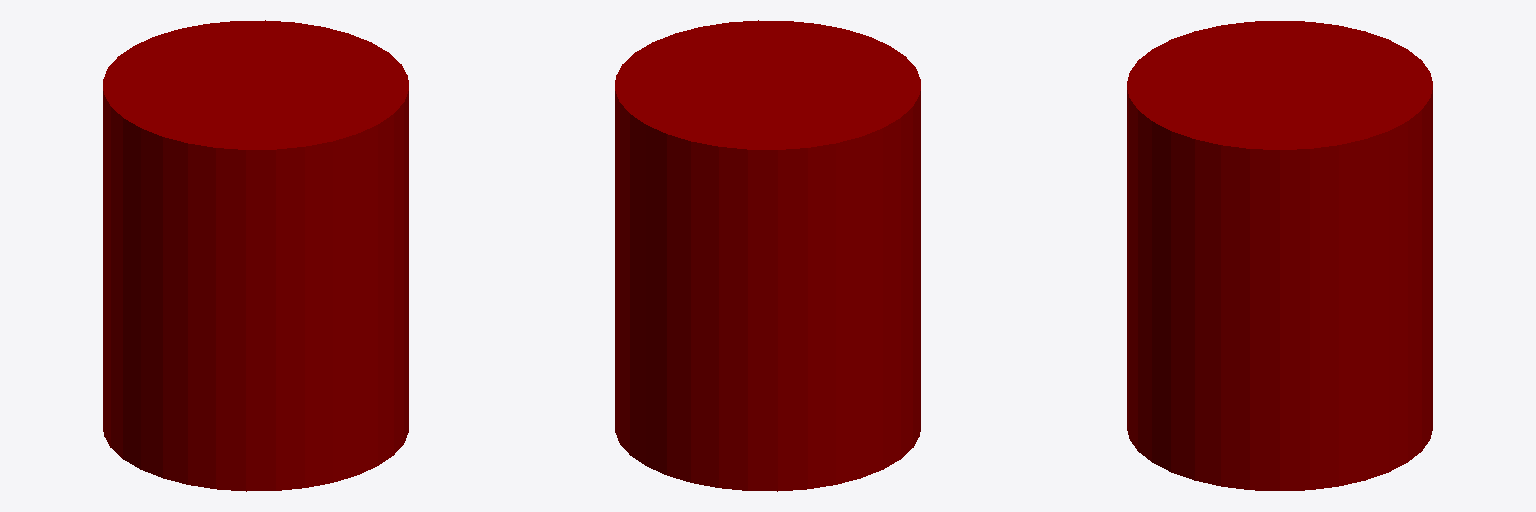
robot.urdf — truth_d6:
<?xml version="1.0" ?>
<robot name="truth_d6"
  xmlns:drake="https://drake.mit.edu/">
    <link name="cube">
        <inertial>
            <origin xyz="0 0 0" rpy="0 0 0"/>
            <mass value="0.5" />
            <inertia
                ixx="0.5"
                ixy="0"
                ixz="0"
                iyy="0.5"
                iyz="0"
                izz="0.5"/>
        </inertial>
        <visual>
            <origin xyz="0 0 0" rpy="0 0 0" />
            <geometry>
                <mesh filename="meshes/cylinder_mscale.obj"/>
            </geometry>
            <material name="pennred">
                <color rgba="0.6 0 0 1.0" />
            </material>
        </visual>
        <collision>
            <geometry>
                <mesh filename="meshes/cylinder_mscale.obj"/>
            </geometry>
            <origin xyz="0 0 0" rpy="0 0 0" />
            <drake:proximity_properties>
                <drake:mu_static value="0.5" />
                <drake:rigid_hydroelastic />
                <drake:mesh_resolution_hint value="0.001" />
                <drake:point_contact_stiffness value="10800.0" />
                <drake:hunt_crossley_dissipation value="0.4" />
            </drake:proximity_properties>
        </collision>
    </link>
</robot>

--- What the picture shows (computed from the rendered views, not written in the file) ---
3 views of the same robot in one strip: view 1: azimuth 30°, elevation 25°; view 2: azimuth 150°, elevation 25°; view 3: azimuth 270°, elevation 25° (orthographic).
Robot: truth_d6 — 1 links, 0 joints (none); root link cube; default pose: every joint at zero.
Visible links, largest first — view 1: cube; view 2: cube; view 3: cube.
Boxes of the visible links, x1,y1,x2,y2 form: cube: [103, 20, 408, 491]; cube: [615, 20, 920, 491]; cube: [1127, 21, 1432, 490].
Size in the robot's own frame: 0.075 by 0.075 by 0.092 metres.
1 mesh visuals loaded from 1 distinct referenced files (1 OBJ).
